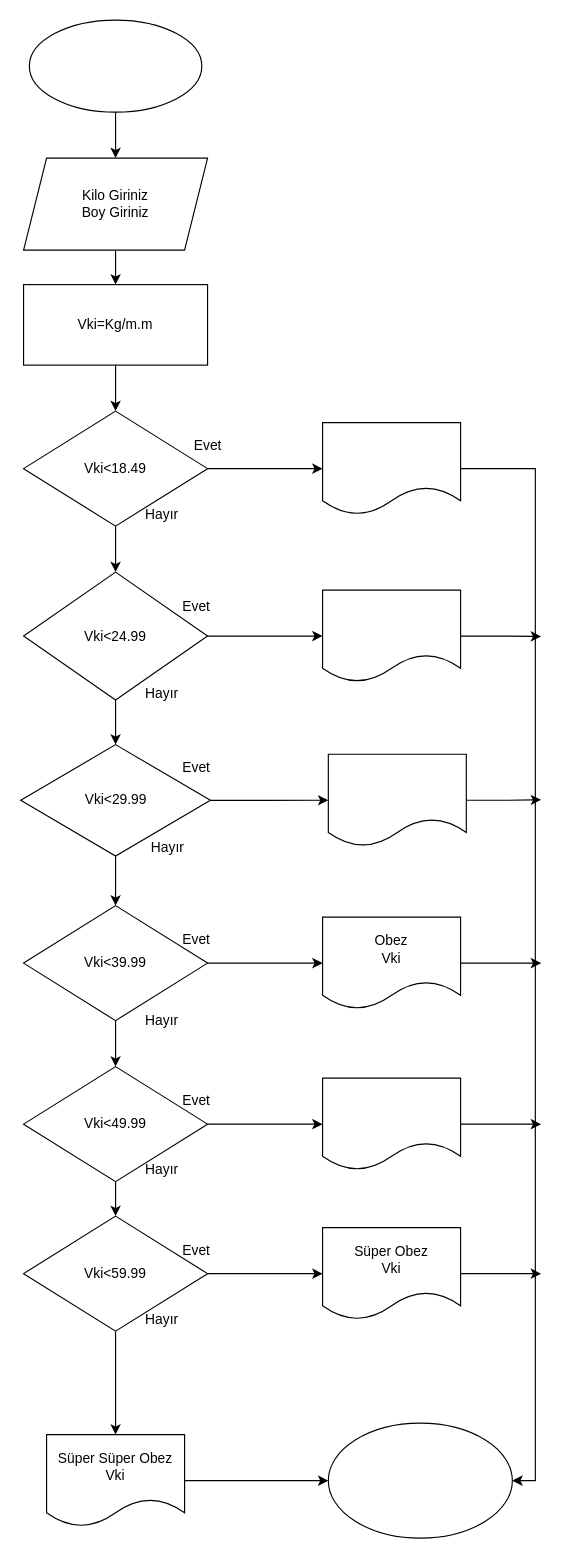
This 570x1558 diagram has some shape labels left out. Here are the shapes that lost their labels. From the top down, the centre of each, then its label:
the point at 115,65: Başla
the point at 391,468: Zayıf Kilolu Vki
the point at 391,635: Normal kilolu Vki
the point at 396,799: Normalden Biraz fazla kilolu Vki
the point at 391,1123: Morbid Obez Vki
the point at 419,1480: Dur
